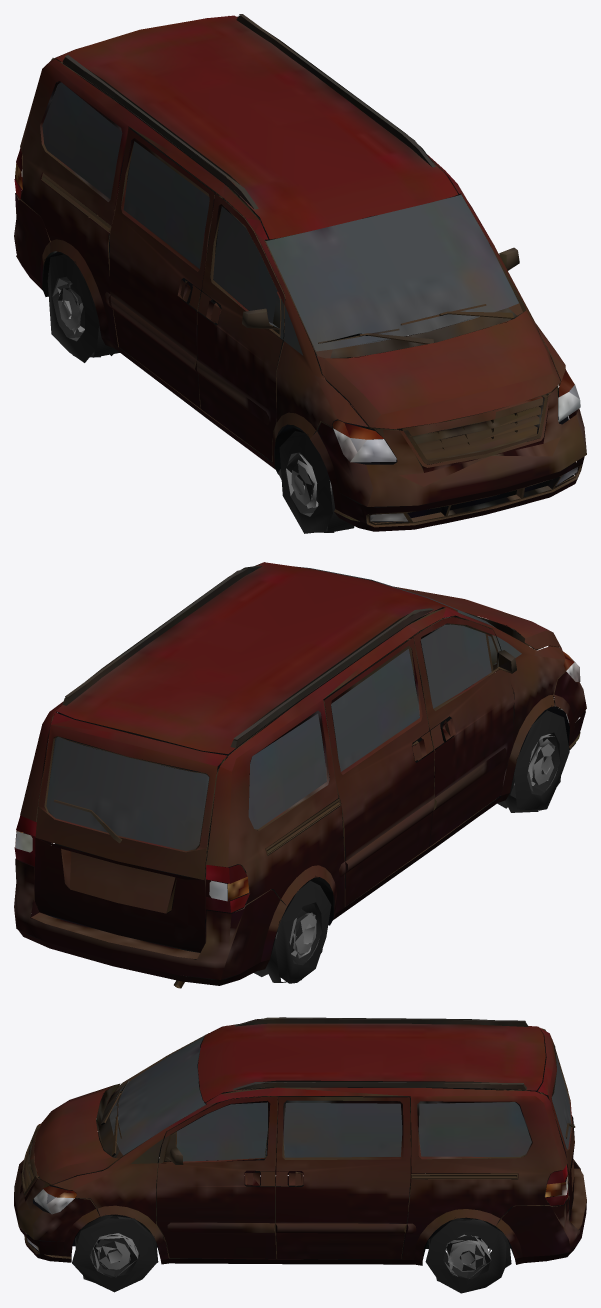
Rendered from pack-minivan-L3.glb.
The picture shows the model from 3 angles, top to bottom: view 1: azimuth 30°, elevation 25°; view 2: azimuth 150°, elevation 25°; view 3: azimuth 270°, elevation 25°; orthographic projection. The views are drawn at different scales.
Parts seen in each view (by area): view 1: body, wheel-front-left, wheel-back-left, wheel-front-left.1, wheel-back-left.1; view 2: body, wheel-back-left, wheel-front-left, wheel-front-left.1, wheel-back-left.1; view 3: body, wheel-front-right, wheel-back-right, wheel-back-right.1, wheel-front-right.1.
Part boxes in pixels (x1,y1,x2,y2): body: [14, 14, 586, 531]; wheel-front-left: [278, 431, 354, 533]; wheel-back-left: [47, 254, 119, 362]; wheel-front-left.1: [286, 453, 331, 516]; wheel-back-left.1: [52, 278, 84, 340]; body: [14, 562, 586, 988]; wheel-back-left: [254, 881, 331, 983]; wheel-front-left: [497, 710, 569, 812]; wheel-front-left.1: [514, 734, 557, 791]; wheel-back-left.1: [275, 912, 319, 959]; body: [14, 1017, 586, 1265]; wheel-front-right: [72, 1215, 158, 1292]; wheel-back-right: [425, 1218, 511, 1293]; wheel-back-right.1: [445, 1234, 491, 1278]; wheel-front-right.1: [90, 1233, 138, 1275].
Bounding box in the file's own units: 1.87 × 1.82 × 4.61.
Materials: 3 (1 with a texture image).
